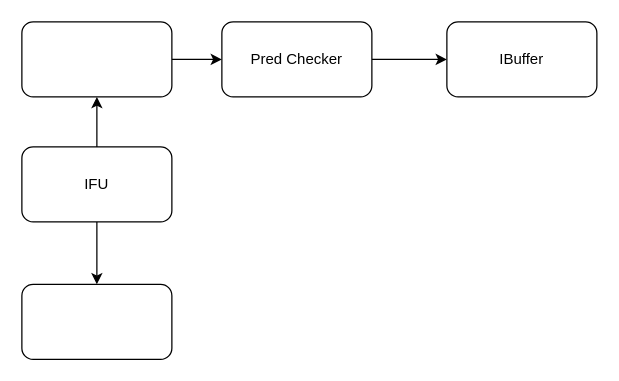
This 619x381 diagram has some shape labels left out. The shapes that lost their labels are listed below. From the top down, each one's centre as x and y in pixels, then its label:
(96,59): Predecoder
(96,321): L1 ICache
